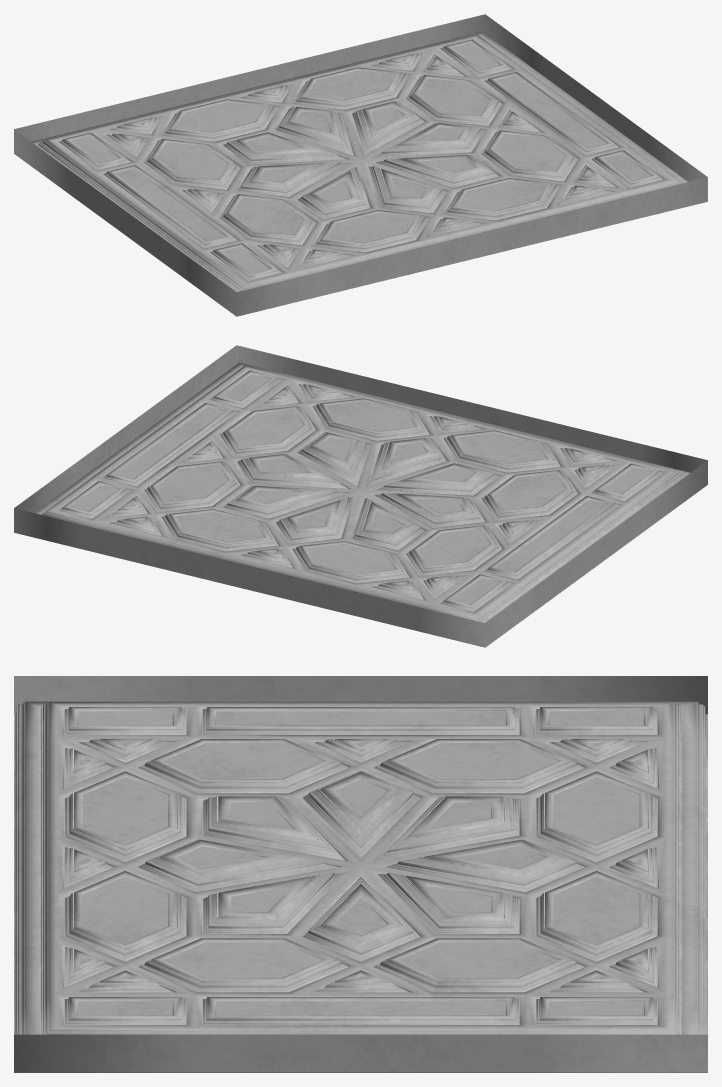
The model's file is ceiling_design.gltf.
3 views of the same model, one above another, from view 1: azimuth 30°, elevation 25°; view 2: azimuth 150°, elevation 25°; view 3: azimuth 270°, elevation 25° (orthographic). The views are drawn at different scales.
Parts seen in each view (by area): view 1: 0_0_0_object_43.001; view 2: 0_0_0_object_43.001; view 3: 0_0_0_object_43.001.
Part boxes in pixels (x1=…): 0_0_0_object_43.001: x1=14, y1=14, x2=707, y2=316; 0_0_0_object_43.001: x1=14, y1=345, x2=707, y2=647; 0_0_0_object_43.001: x1=14, y1=676, x2=707, y2=1072.
Size of the model in its own units: 5.5 by 0.2738 by 4.5.
Materials: 1 (1 with a texture image).
